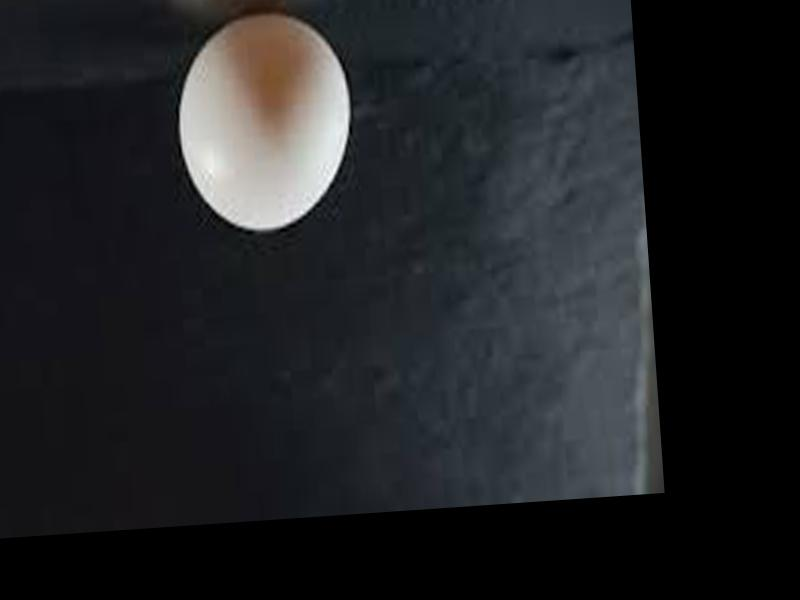Eggs: (173, 8, 358, 240)
